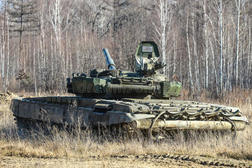t72: (11, 49, 248, 132)
